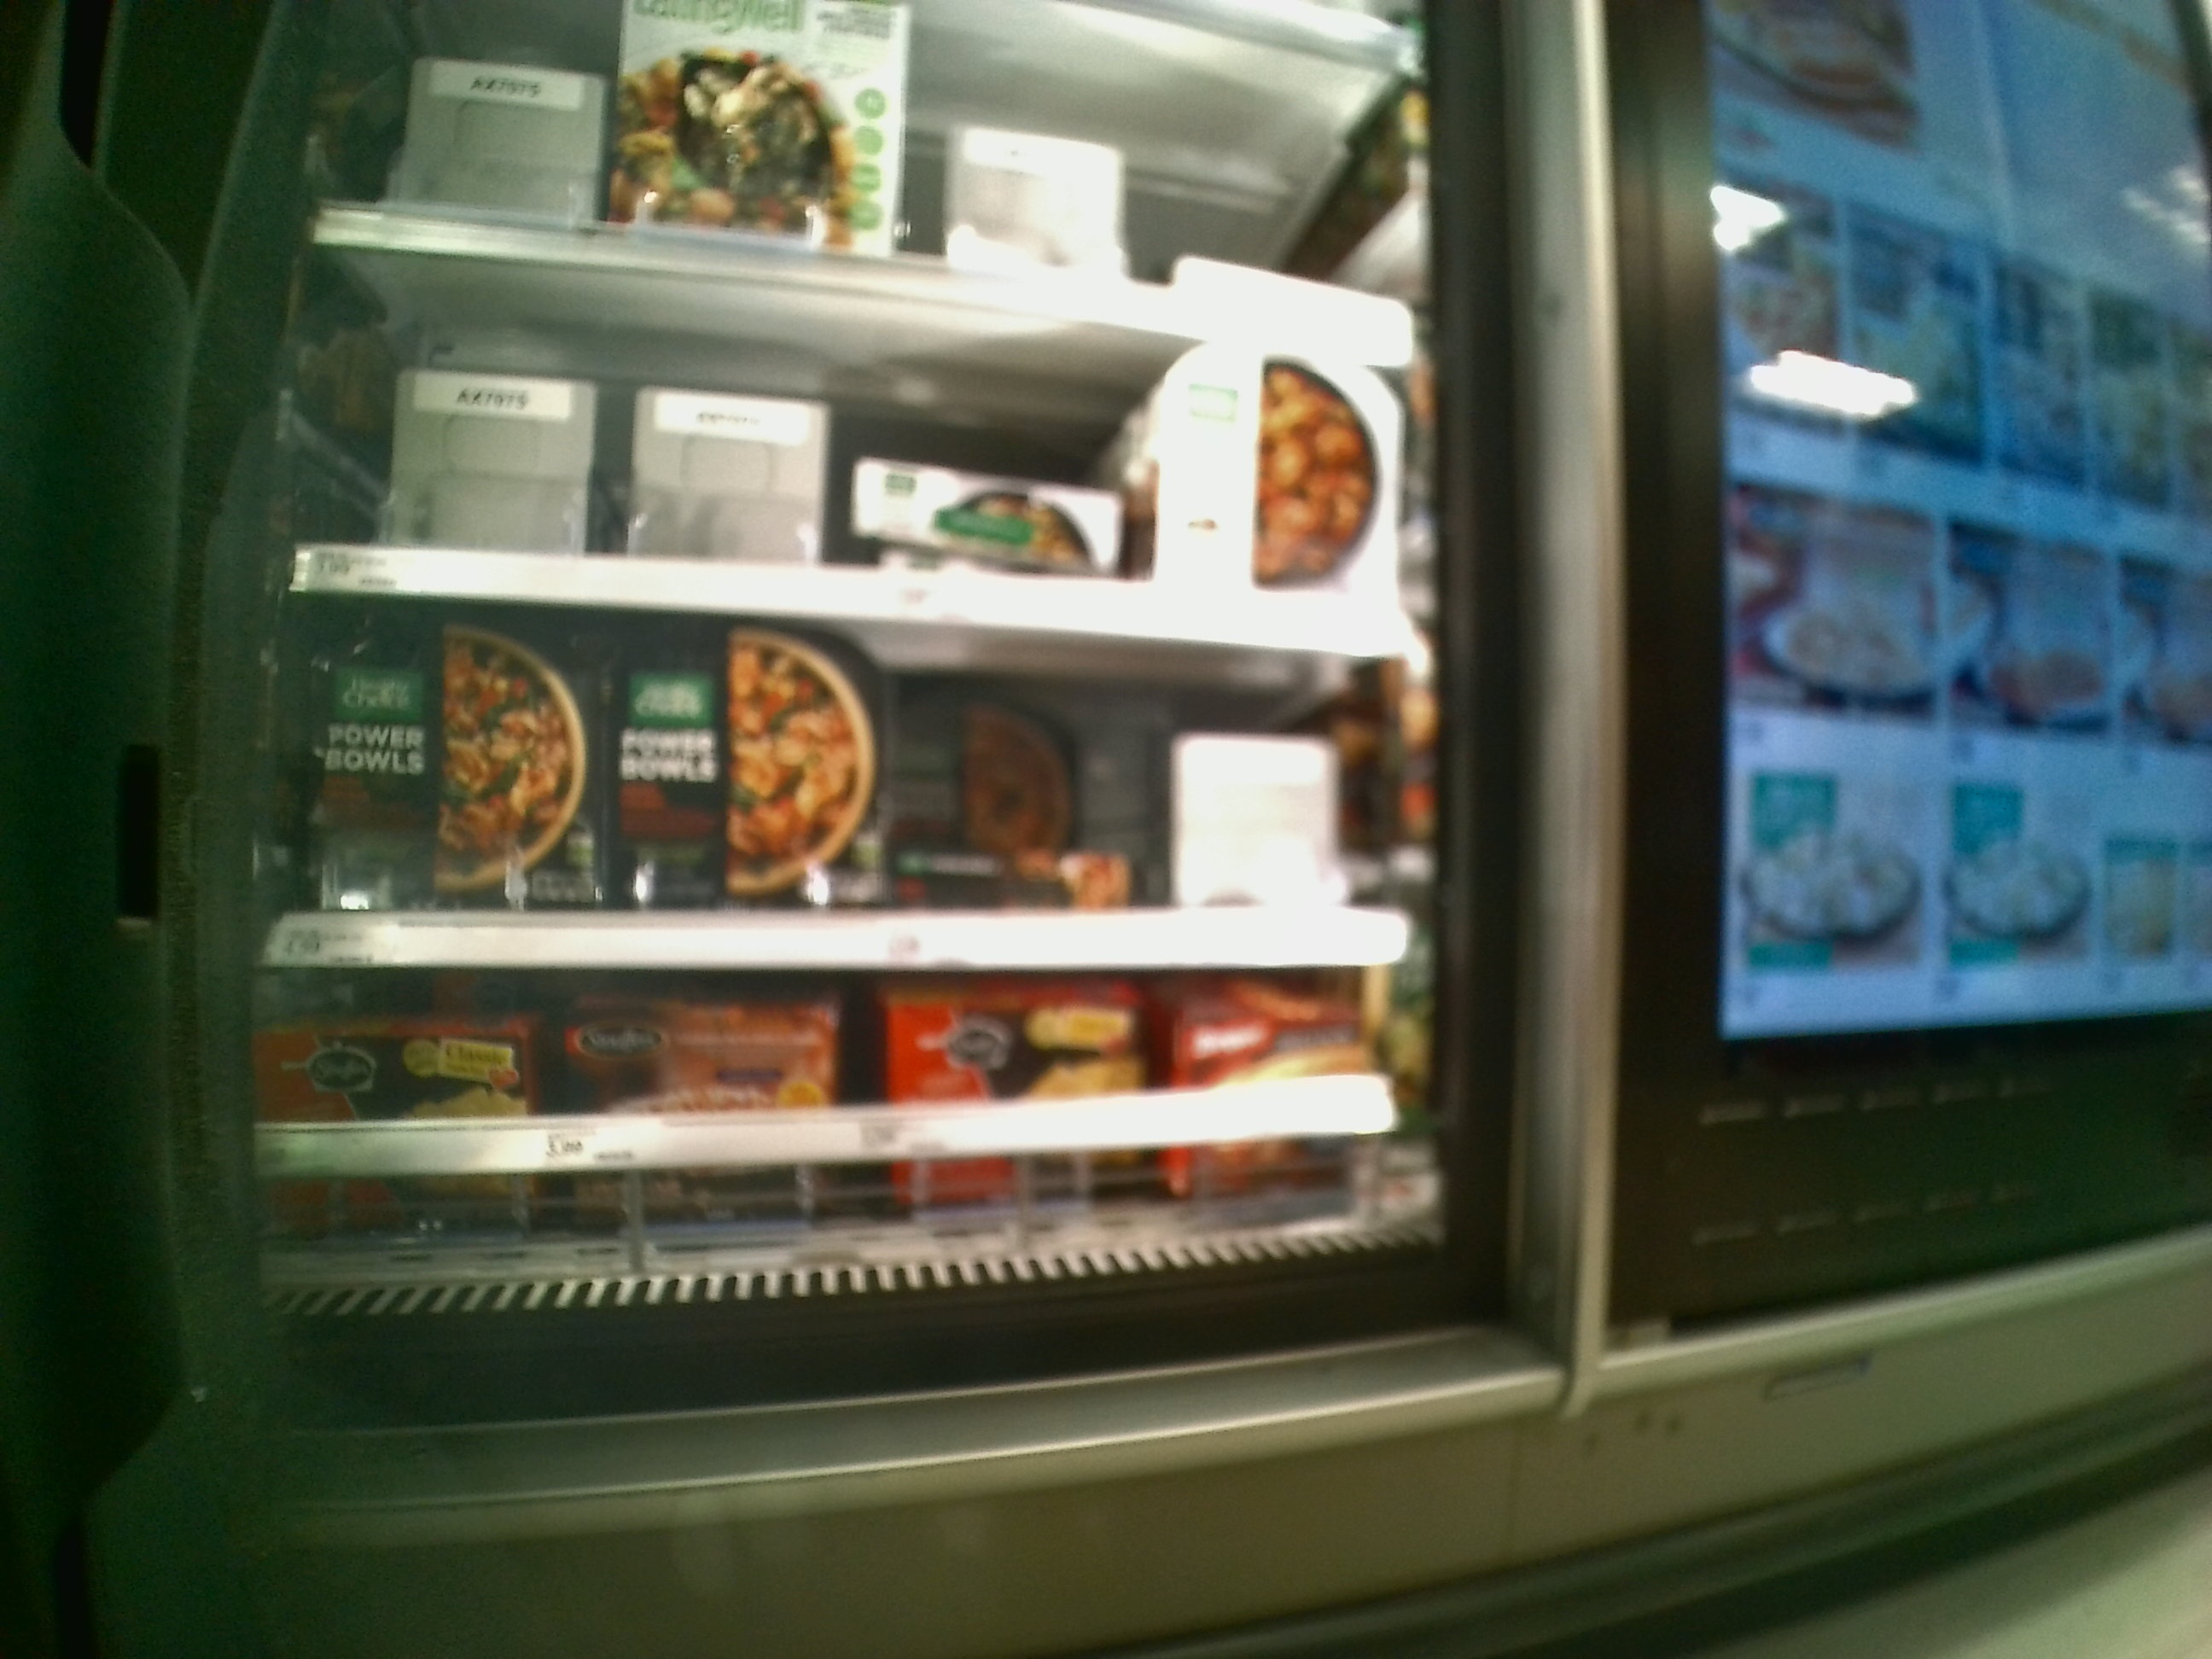shelf: (280, 242, 1423, 641), (235, 969, 1463, 1338), (261, 587, 1423, 969)
